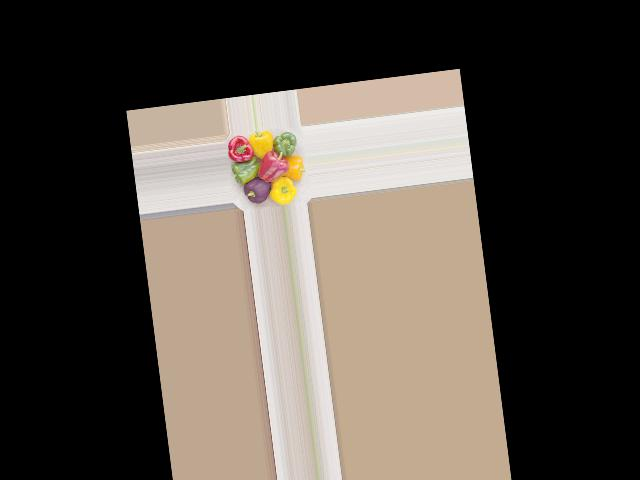bell_pepper: (234, 171, 273, 205)
